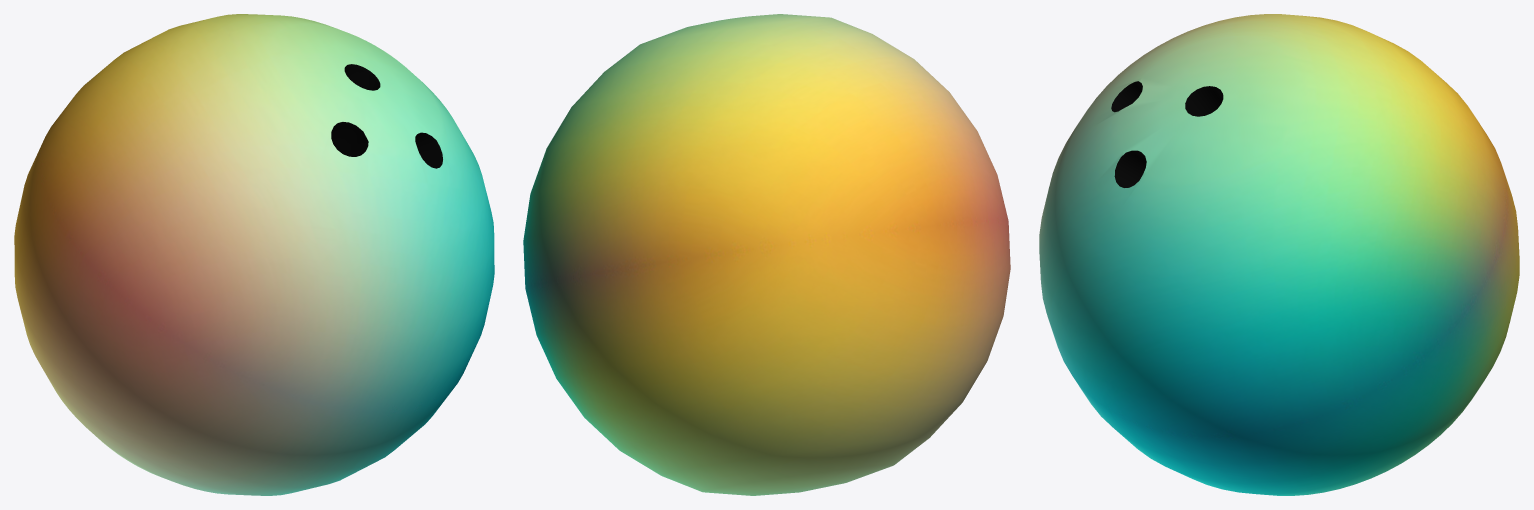
File: BallT1.FBX
3 renders of one model, left to right at view 1: azimuth 30°, elevation 25°; view 2: azimuth 150°, elevation 25°; view 3: azimuth 270°, elevation 25°, orthographic.
Parts seen in each view (by area): view 1: Ball1; view 2: Ball1; view 3: Ball1.
Boxes of the visible parts, <box> form: Ball1: <box>14,14,494,495</box>; Ball1: <box>523,14,1010,495</box>; Ball1: <box>1039,14,1519,495</box>.
Size of the model in its own units: 180 by 180 by 181.
